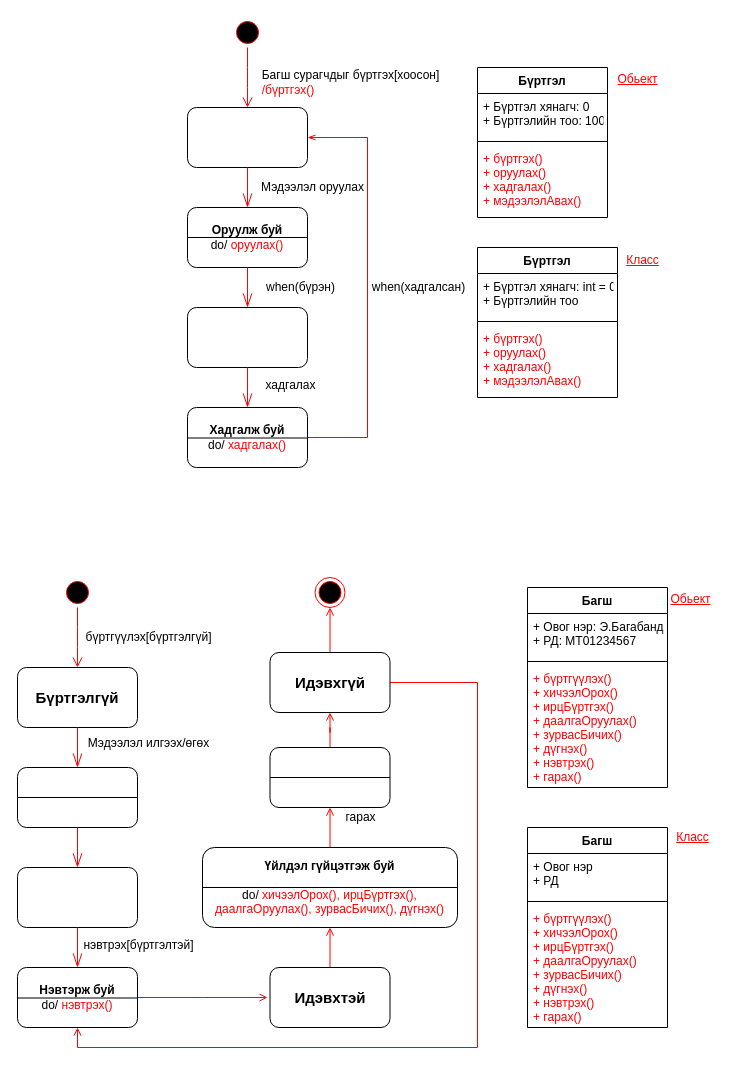
The diagram is 735 pixels wide and 1073 high, and some of its shapes have lost their labels. Each missing label, with the centre of its shape:
Бүртгэлтэй: point (77, 897)
Бүртгүүлж буй do/ бүртгүүлэх(): point (77, 797)
Бүрэн: point (247, 337)
Гарч буй do/ гарах(): point (329, 777)
Хоосон: point (247, 137)
